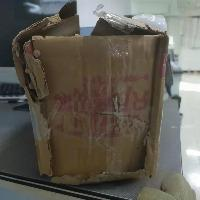damaged package: (14, 6, 112, 178)
undamaged: (6, 3, 175, 189)
